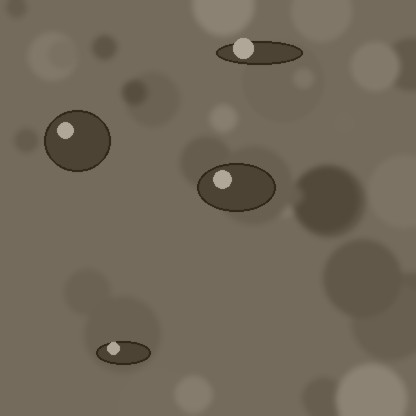gota: (44, 112, 110, 176), (197, 165, 275, 215), (216, 42, 302, 66), (96, 342, 150, 366)
